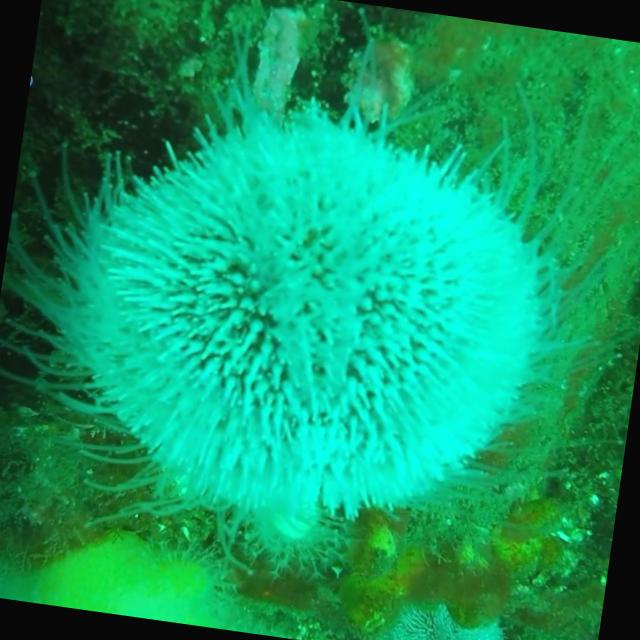Deniz Kestanesi: (0, 4, 640, 612), (373, 589, 513, 640)
